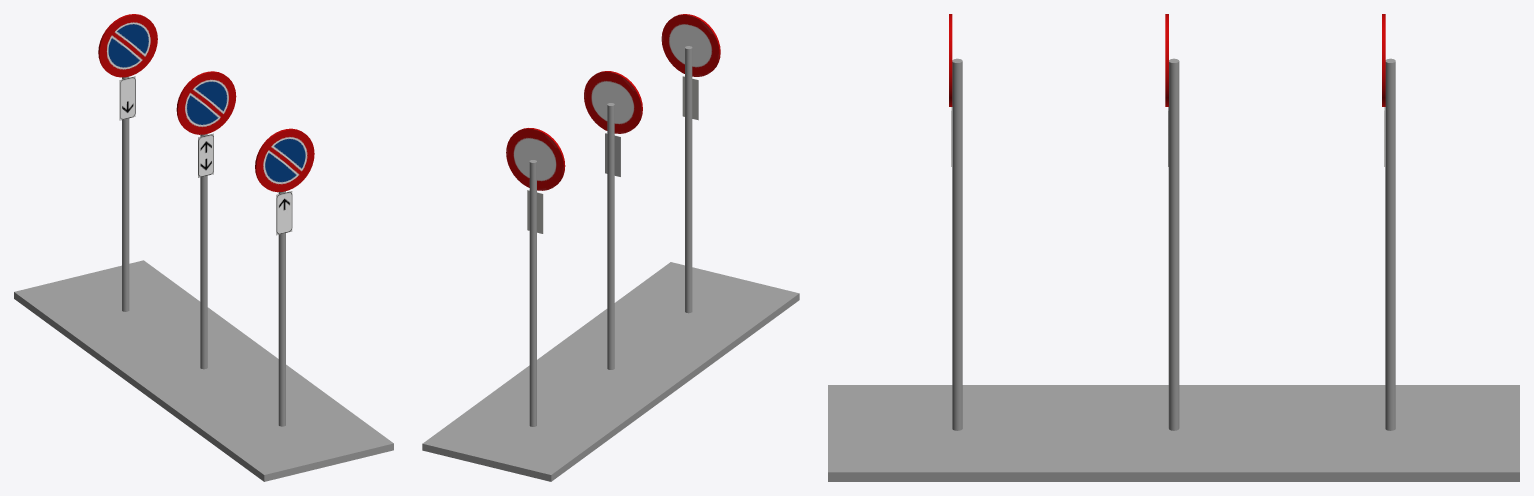
The model's file is NoParkingRoadSigns3.fbx.
3 views of the same model, side by side, from view 1: azimuth 30°, elevation 25°; view 2: azimuth 150°, elevation 25°; view 3: azimuth 270°, elevation 25° (orthographic). The views are drawn at different scales.
Visible parts, largest first — view 1: Base, NoParking (×3), Pole (×3), SignageContinuation (×3); view 2: Base, NoParking (×3), Pole (×3), SignageContinuation (×3); view 3: Base, Pole (×3).
Boxes of the visible parts, bbox=[...] form: Base: bbox=[14, 260, 393, 481]; NoParking (×3): bbox=[98, 14, 314, 192]; Pole (×3): bbox=[122, 76, 285, 426]; SignageContinuation (×3): bbox=[119, 76, 292, 235]; Base: bbox=[422, 262, 799, 481]; NoParking (×3): bbox=[506, 14, 720, 190]; Pole (×3): bbox=[529, 46, 692, 426]; SignageContinuation (×3): bbox=[527, 76, 698, 233]; Base: bbox=[828, 385, 1519, 481]; Pole (×3): bbox=[952, 58, 1395, 430].
Bounding box in the file's own units: 9.56 × 21.38 × 31.94.
6 materials, 4 textured.
